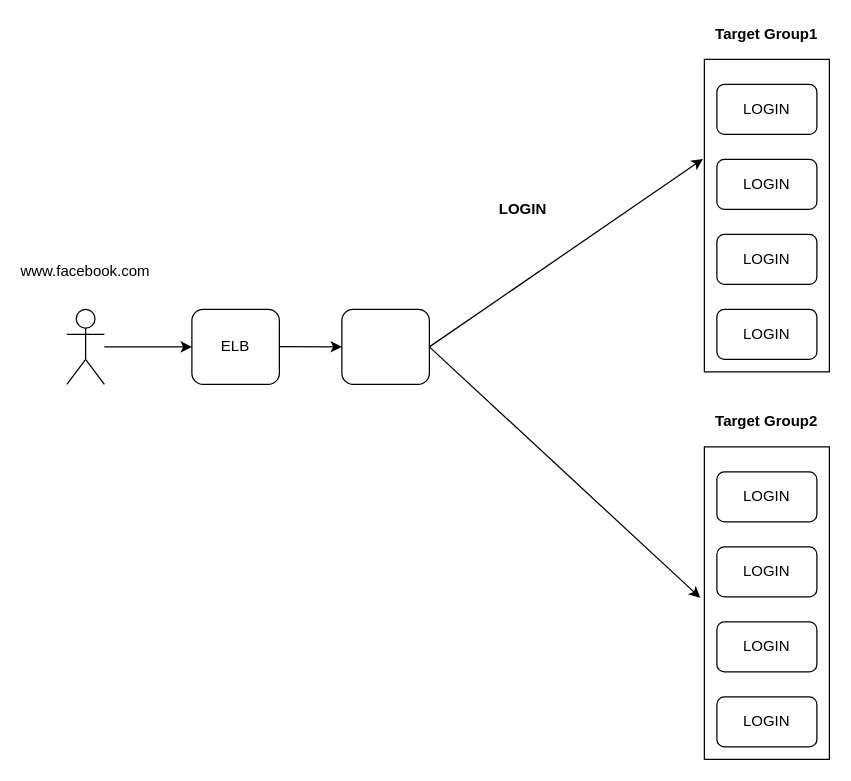
The diagram is 851 pixels wide and 781 high, and some of its shapes have lost their labels. Here are the shapes that lost their labels. From the top down, the box of each, then its label:
(66, 308, 104, 384): Actor
(341, 308, 429, 384): ASG
